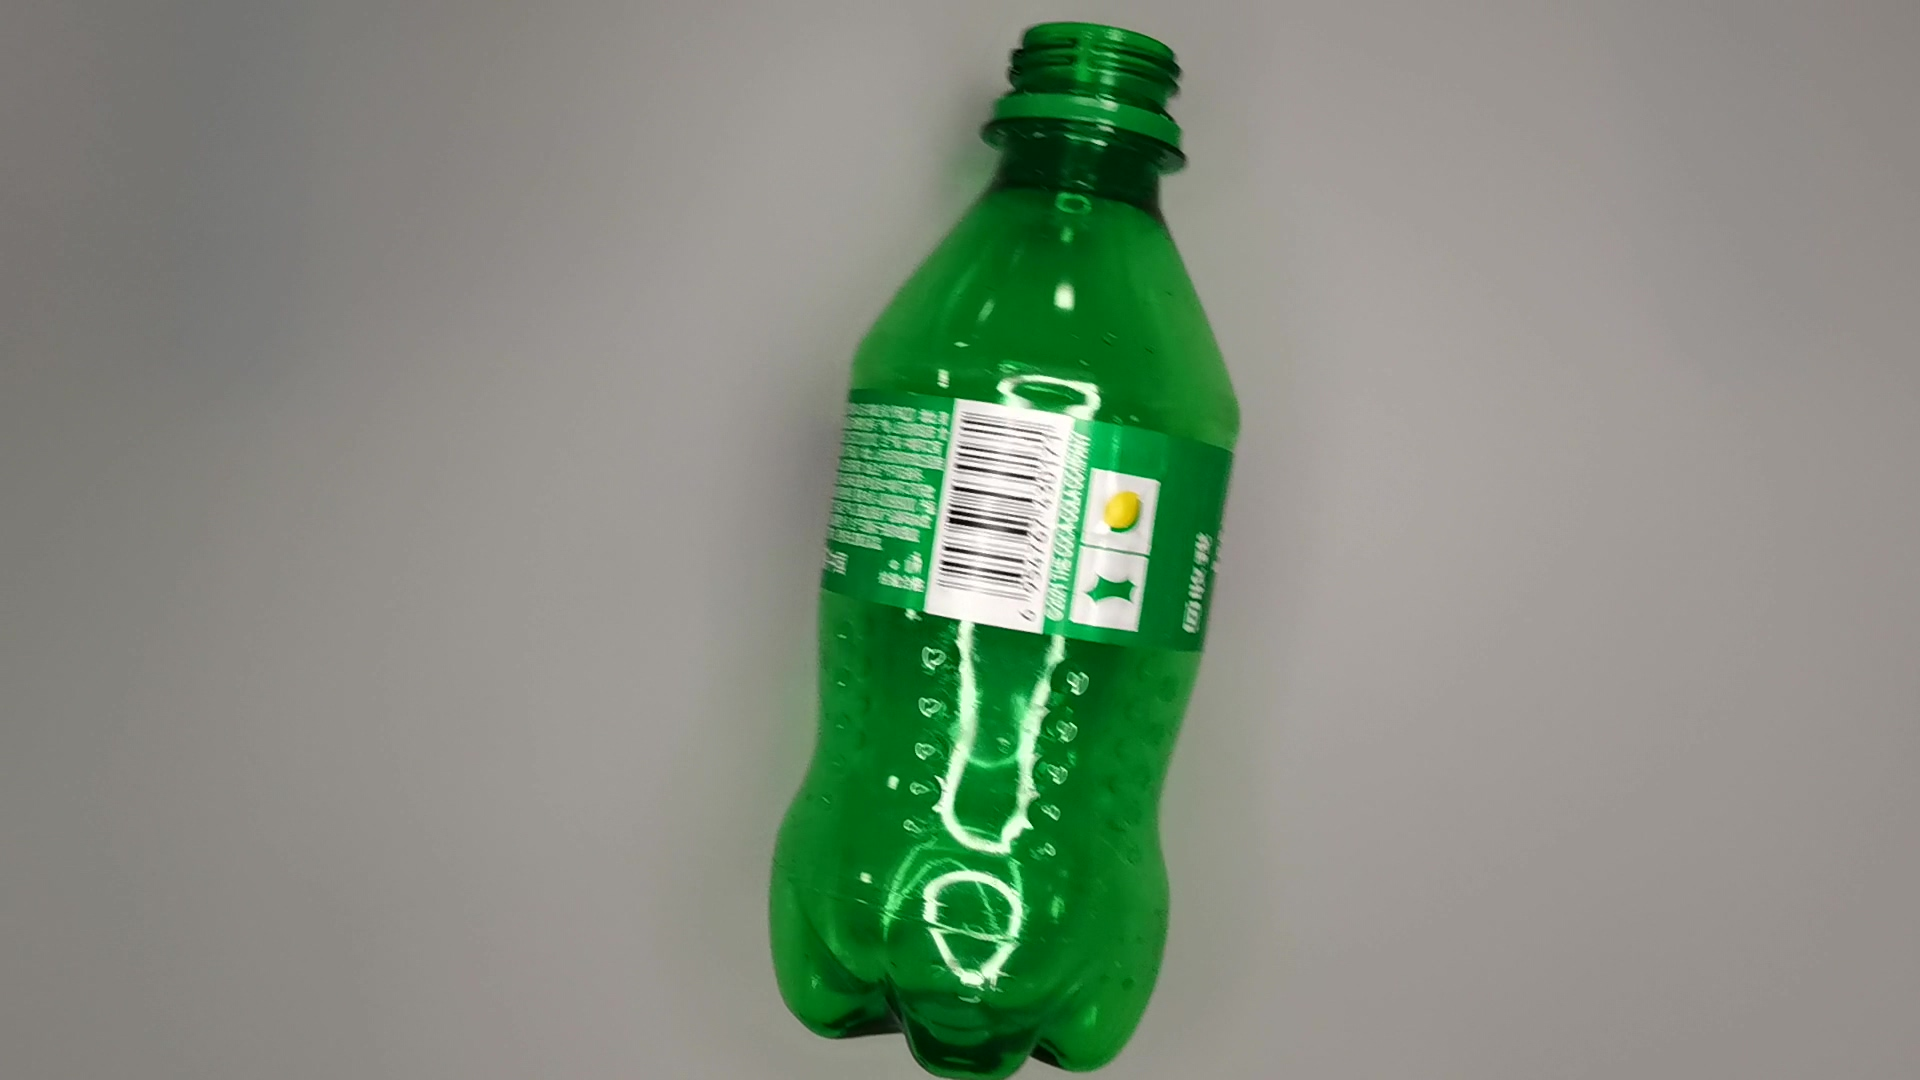bottle: (733, 15, 1254, 1080)
